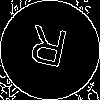R: (25, 25, 70, 77)
